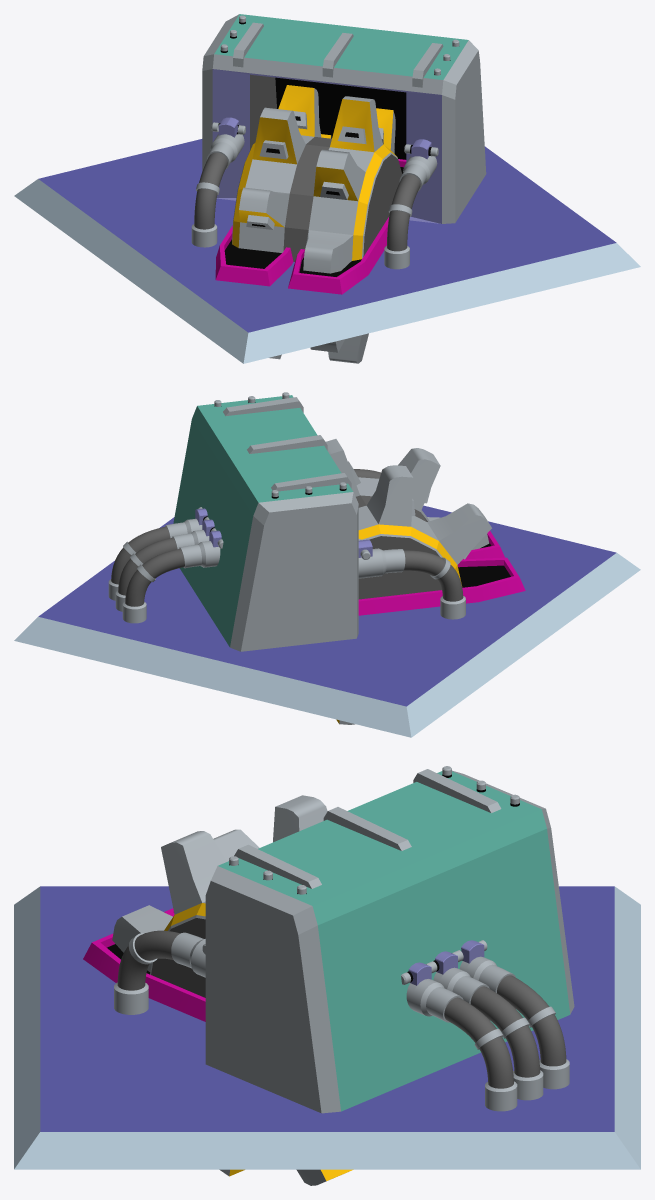
The model's file is 64_Haarvester_FUD9.fbx.
The picture shows the model from 3 angles, top to bottom: view 1: azimuth 30°, elevation 25°; view 2: azimuth 150°, elevation 25°; view 3: azimuth 270°, elevation 25°; orthographic projection. The views are drawn at different scales.
Parts seen in each view (by area): view 1: foundation9, pCube138, pCylinder114, pCylinder127, pCylinder124, pPlane39, pPlane38, pCube139, pCube140, pCube136; view 2: foundation9, pCube138, pCylinder114, pPlane39, pCylinder127, pCylinder122, pCylinder124, pCylinder250, pCube139, pCube140, pCube136, pPlane38; view 3: foundation9, pCube138, pCylinder114, pCylinder124 (×2), pCylinder122, pCylinder250, pPlane38, pCube139, pCube136, pCube140.
Boxes of the visible parts, left/top/right/bottom form: foundation9: left=14, top=139, right=640, bottom=363; pCube138: left=202, top=14, right=486, bottom=223; pCylinder114: left=232, top=85, right=402, bottom=363; pCylinder127: left=191, top=117, right=244, bottom=247; pCylinder124: left=384, top=139, right=437, bottom=269; pPlane39: left=215, top=225, right=293, bottom=286; pPlane38: left=288, top=159, right=406, bottom=294; pCube139: left=322, top=33, right=353, bottom=77; pCube140: left=412, top=43, right=443, bottom=87; pCube136: left=233, top=22, right=263, bottom=67; foundation9: left=14, top=505, right=640, bottom=737; pCube138: left=173, top=395, right=358, bottom=651; pCylinder114: left=326, top=439, right=491, bottom=724; pPlane39: left=358, top=557, right=525, bottom=615; pCylinder127: left=358, top=539, right=465, bottom=619; pCylinder122: left=122, top=530, right=221, bottom=623; pCylinder124: left=108, top=508, right=207, bottom=600; pCylinder250: left=115, top=519, right=214, bottom=611; pCube139: left=247, top=435, right=327, bottom=453; pCube140: left=223, top=397, right=303, bottom=416; pCube136: left=271, top=473, right=351, bottom=491; pPlane38: left=463, top=531, right=504, bottom=559; foundation9: left=14, top=886, right=640, bottom=1169; pCube138: left=205, top=770, right=574, bottom=1113; pCylinder114: left=112, top=795, right=353, bottom=1185; pCylinder124 (×2): left=114, top=930, right=517, bottom=1111; pCylinder122: left=459, top=940, right=569, bottom=1089; pCylinder250: left=433, top=951, right=543, bottom=1100; pPlane38: left=83, top=933, right=205, bottom=1021; pCube139: left=323, top=807, right=411, bottom=850; pCube136: left=413, top=769, right=501, bottom=812; pCube140: left=234, top=844, right=321, bottom=888.
Bounding box in the file's own units: 2 × 1.31 × 2.
